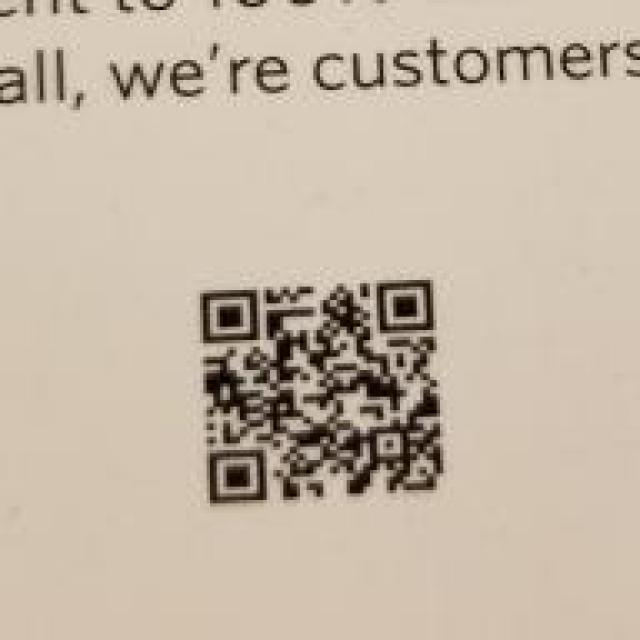qr_code: (200, 279, 444, 506)
